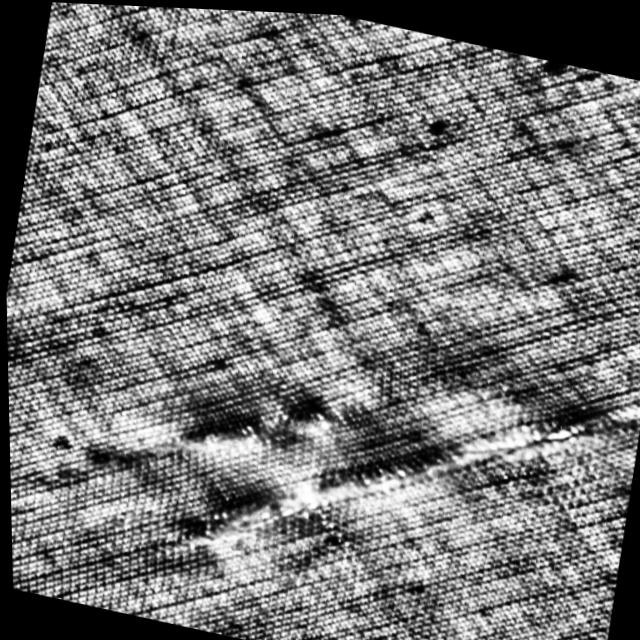Stitch: (159, 309, 640, 633), (177, 365, 341, 474)
